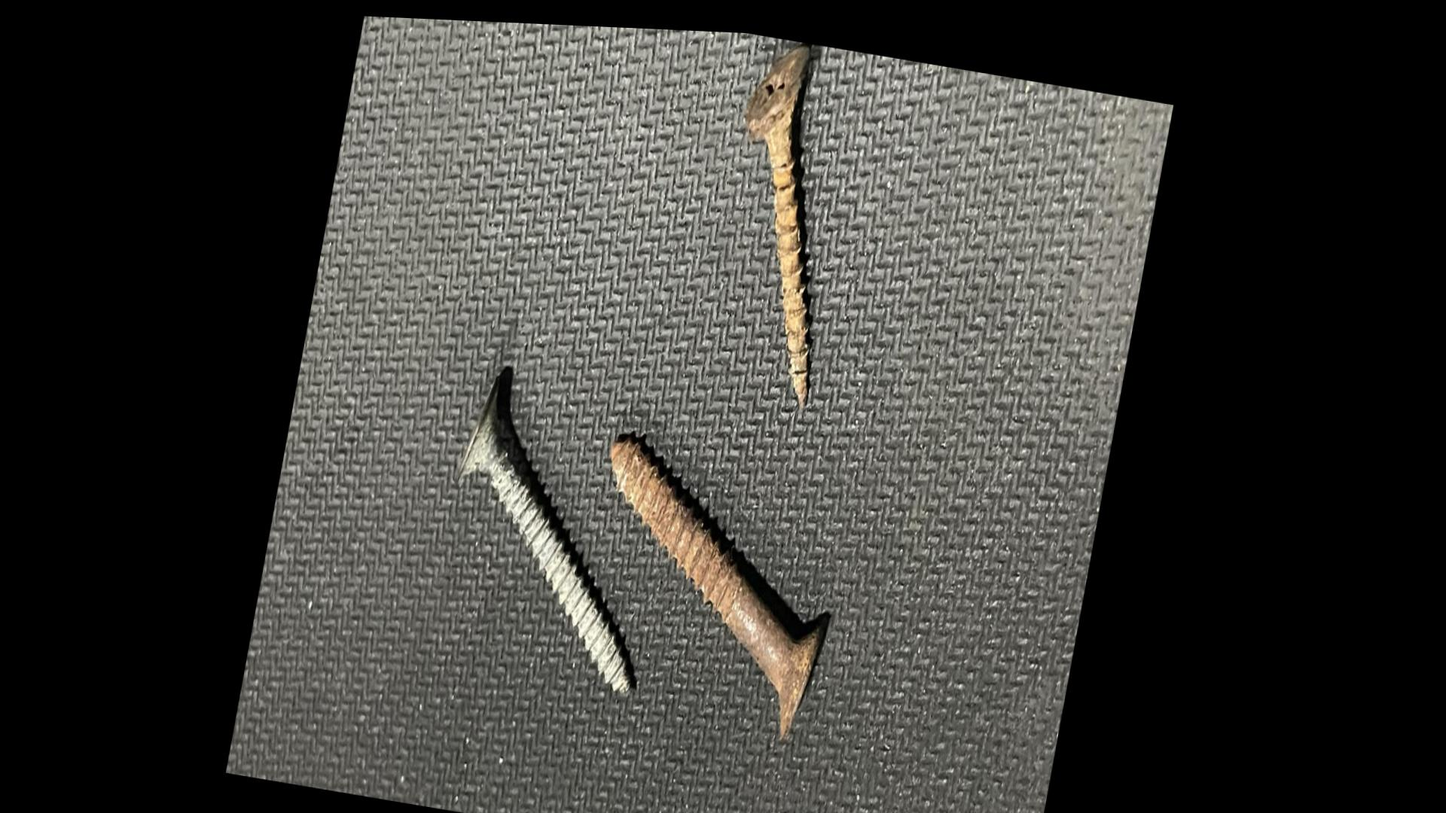screw: (536, 297, 903, 808), (400, 355, 695, 758), (673, 24, 894, 426)
